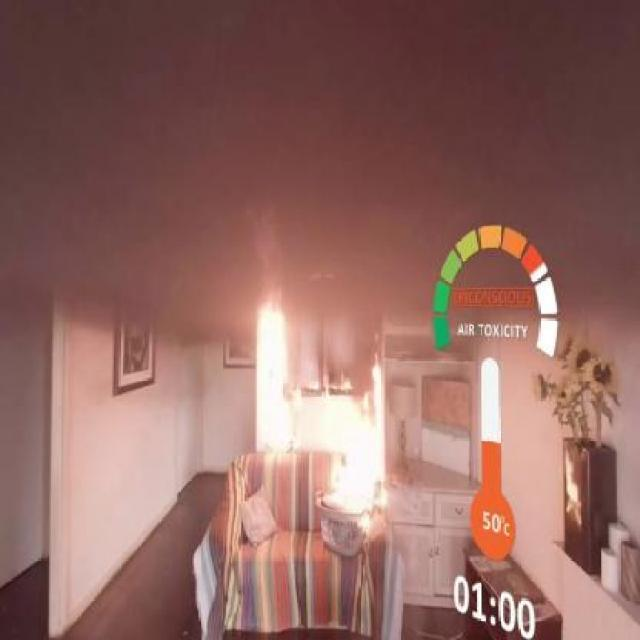fire: (257, 281, 392, 550)
smoke: (63, 18, 440, 284)
